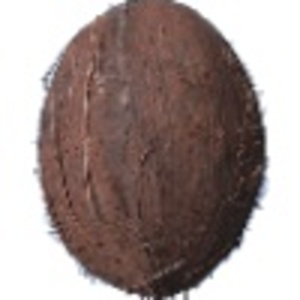coco: (38, 1, 270, 300)
